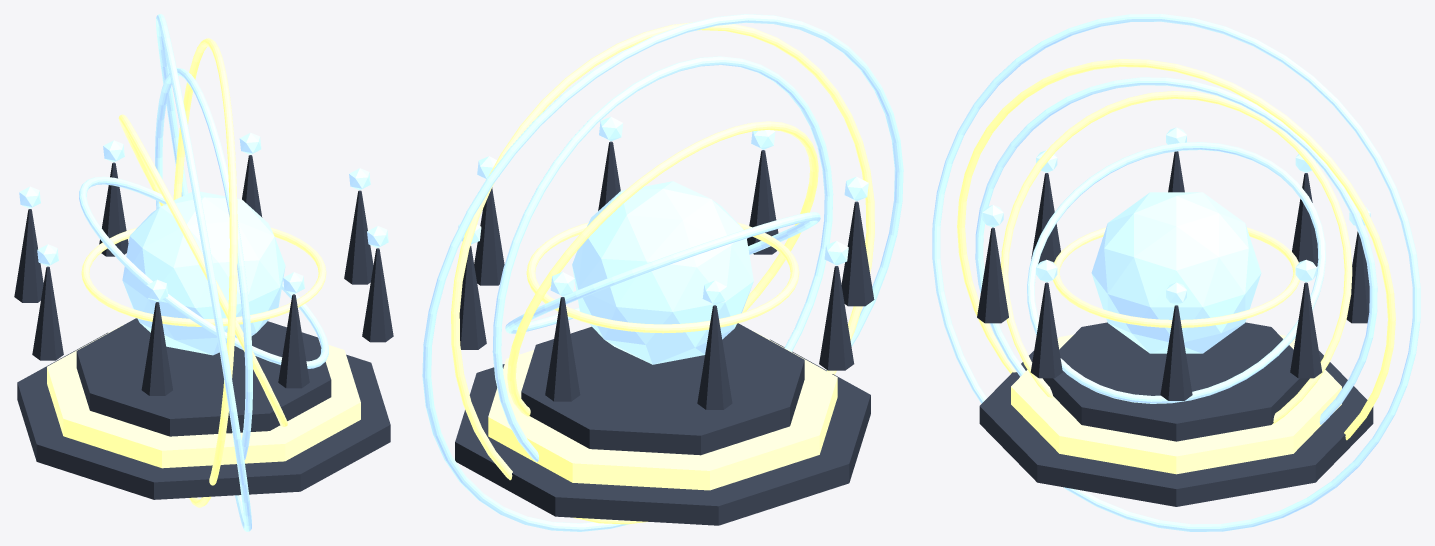
Rendered from gpu-blender-v37.glb.
3 views of the same model, side by side, from view 1: azimuth 30°, elevation 25°; view 2: azimuth 150°, elevation 25°; view 3: azimuth 270°, elevation 25° (orthographic). The views are drawn at different scales.
Parts seen in each view (by area): view 1: Cylinder.002, Cylinder, SovereignCore_zela-glasses-guide, Cylinder.001, Torus.005, Torus.004, Torus.003, Torus.001, Torus, Torus.002, Cone.007, Cone.006 (+6 smaller); view 2: Cylinder.002, SovereignCore_zela-glasses-guide, Cylinder, Cylinder.001, Torus.005, Torus.004, Torus.003, Torus.002, Torus.001, Torus, Cone.004, Cone.002 (+6 smaller); view 3: SovereignCore_zela-glasses-guide, Cylinder.002, Cylinder, Cylinder.001, Torus.005, Torus.004, Torus.003, Torus.002, Torus.001, Torus, Cone.001, Cone.007 (+5 smaller).
Part boxes in pixels (<box>): Cylinder.002: <box>76,318,331,436</box>; Cylinder: <box>17,332,390,499</box>; SovereignCore_zela-glasses-guide: <box>122,191,285,355</box>; Cylinder.001: <box>47,325,360,468</box>; Torus.005: <box>156,14,251,531</box>; Torus.004: <box>173,38,237,507</box>; Torus.003: <box>155,68,252,459</box>; Torus.001: <box>79,176,328,368</box>; Torus: <box>81,227,326,326</box>; Torus.002: <box>118,114,287,426</box>; Cone.007: <box>362,248,393,342</box>; Cone.006: <box>278,294,309,388</box>; Cylinder.002: <box>521,323,804,455</box>; SovereignCore_zela-glasses-guide: <box>572,181,753,364</box>; Cylinder: <box>455,339,870,525</box>; Cylinder.001: <box>488,330,837,490</box>; Torus.005: <box>422,14,903,531</box>; Torus.004: <box>451,22,874,524</box>; Torus.003: <box>492,56,833,461</box>; Torus.002: <box>507,121,818,416</box>; Torus.001: <box>505,212,820,333</box>; Torus: <box>526,222,799,333</box>; Cone.004: <box>819,266,854,370</box>; Cone.002: <box>545,297,580,401</box>; SovereignCore_zela-glasses-guide: <box>1091,192,1261,353</box>; Cylinder.002: <box>1043,322,1309,441</box>; Cylinder: <box>979,351,1373,506</box>; Cylinder.001: <box>1011,334,1341,474</box>; Torus.005: <box>932,14,1420,531</box>; Torus.004: <box>957,59,1395,440</box>; Torus.003: <box>975,77,1377,424</box>; Torus.002: <box>1001,91,1352,423</box>; Torus.001: <box>1027,142,1325,403</box>; Torus: <box>1053,227,1299,327</box>; Cone.001: <box>1290,282,1322,378</box>; Cone.007: <box>1030,282,1062,378</box>.
Size of the model in its own units: 4.41 by 5.93 by 5.46.
